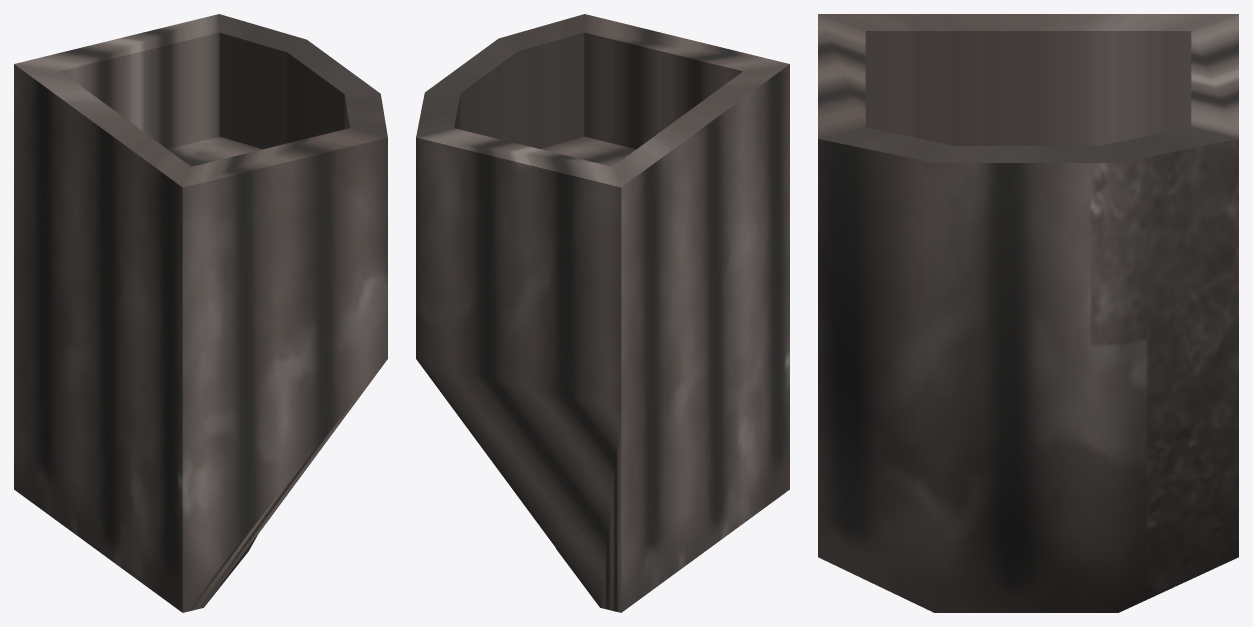
The model's file is wallBrazier.fbx.
3 renders of one model, left to right at view 1: azimuth 30°, elevation 25°; view 2: azimuth 150°, elevation 25°; view 3: azimuth 270°, elevation 25°, orthographic. The views are drawn at different scales.
Visible parts, largest first — view 1: pCube3; view 2: pCube3; view 3: pCube3.
Part boxes in pixels (x1=…): pCube3: x1=14, y1=14, x2=387, y2=612; pCube3: x1=416, y1=14, x2=789, y2=612; pCube3: x1=818, y1=14, x2=1238, y2=612.
Bounding box in the file's own units: 7.38 × 12.26 × 8.82.
